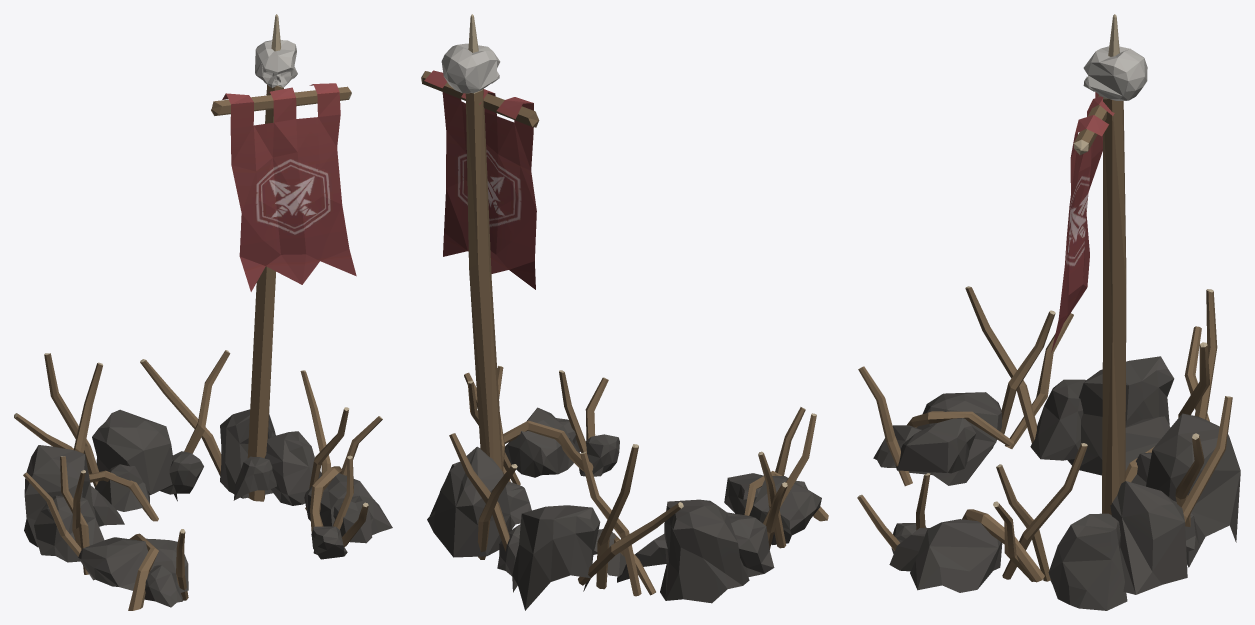
File: MMEnemyCamp_animal.fbx
3 views of the same model, side by side, from view 1: azimuth 30°, elevation 25°; view 2: azimuth 150°, elevation 25°; view 3: azimuth 270°, elevation 25° (orthographic). The views are drawn at different scales.
Visible parts, largest first — view 1: MMEnemyCamp_animal; view 2: MMEnemyCamp_animal; view 3: MMEnemyCamp_animal.
Boxes of the visible parts, <box> form: MMEnemyCamp_animal: <box>14,14,392,610</box>; MMEnemyCamp_animal: <box>421,14,828,610</box>; MMEnemyCamp_animal: <box>857,14,1240,610</box>.
Bounding box in the file's own units: 3.19 × 4.52 × 2.64.
Materials: 2 (2 with a texture image).
